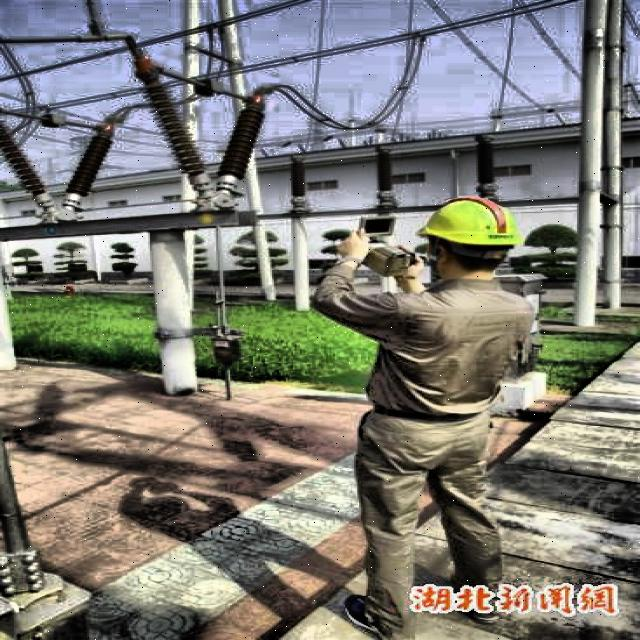helmet: (412, 188, 530, 284)
